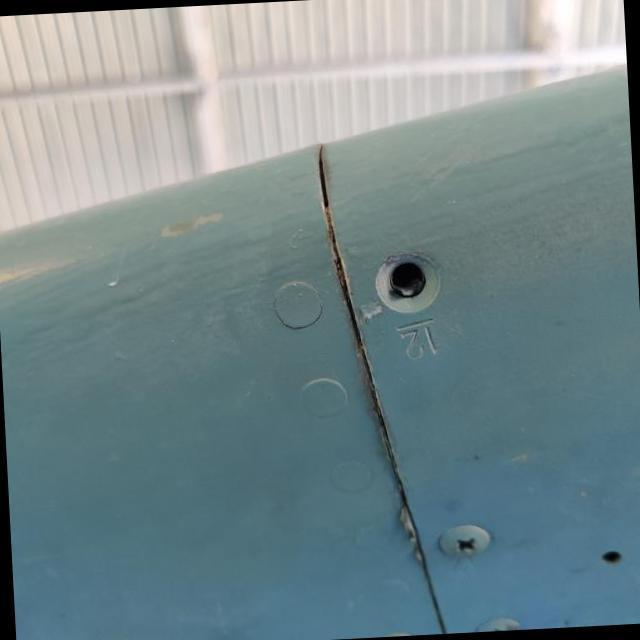Fastener Damage: (347, 225, 473, 346)
